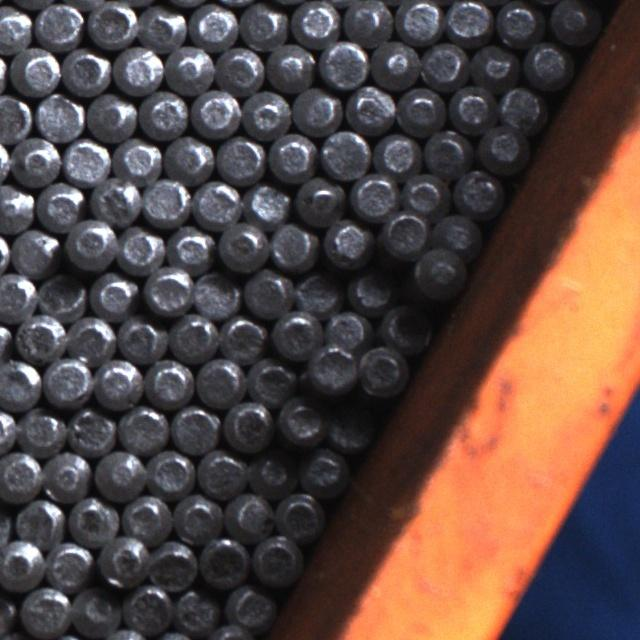tool: (95, 532, 149, 586), (410, 246, 466, 298), (62, 219, 116, 272), (377, 300, 432, 352), (66, 494, 120, 546), (89, 173, 141, 225), (294, 173, 346, 225), (197, 537, 249, 589), (10, 135, 61, 187), (69, 585, 120, 637), (222, 398, 272, 451), (94, 448, 145, 499), (355, 344, 406, 395), (242, 268, 294, 318), (217, 220, 269, 270), (123, 582, 173, 634), (250, 534, 300, 586), (18, 587, 69, 637), (15, 312, 66, 362), (9, 226, 59, 277), (41, 450, 91, 501), (172, 491, 222, 542), (275, 396, 325, 447), (66, 312, 116, 363), (35, 180, 85, 230), (60, 46, 110, 96), (136, 2, 186, 52), (236, 1, 286, 51), (319, 129, 369, 179), (318, 39, 368, 89), (196, 448, 246, 498), (66, 406, 116, 456), (118, 404, 168, 454), (306, 345, 356, 395), (85, 93, 136, 142), (14, 497, 65, 546), (43, 355, 92, 406), (267, 131, 316, 181), (163, 133, 213, 182), (269, 222, 319, 271), (192, 178, 241, 228), (143, 266, 192, 316), (116, 312, 166, 361), (44, 540, 93, 590), (396, 85, 445, 135), (93, 358, 142, 408), (169, 312, 219, 361), (271, 311, 321, 360), (370, 38, 419, 88), (16, 406, 66, 455), (116, 225, 166, 274), (191, 272, 241, 321), (39, 271, 89, 320), (452, 167, 502, 216), (274, 491, 323, 541), (148, 539, 196, 590), (34, 0, 83, 49), (192, 88, 241, 137), (165, 45, 214, 94), (114, 44, 163, 93), (351, 171, 400, 220), (146, 447, 195, 496), (10, 47, 59, 96), (219, 313, 268, 362), (123, 491, 172, 540), (225, 490, 274, 539), (225, 582, 274, 631), (522, 41, 571, 90), (299, 446, 348, 495), (291, 86, 341, 134), (216, 134, 266, 182), (189, 1, 237, 51), (141, 176, 189, 226), (345, 84, 395, 132), (86, 0, 136, 48), (325, 219, 373, 269), (246, 354, 294, 404), (476, 122, 524, 172), (35, 91, 83, 140), (242, 88, 291, 136), (266, 43, 315, 91), (139, 90, 188, 138), (216, 45, 264, 94), (420, 39, 469, 87), (170, 404, 218, 453), (145, 358, 193, 407), (379, 210, 428, 258), (196, 356, 243, 406), (547, 0, 598, 46), (114, 134, 162, 182), (62, 136, 110, 184), (346, 268, 394, 316), (422, 127, 470, 175), (171, 586, 219, 634), (247, 450, 295, 498), (89, 271, 138, 318), (244, 179, 292, 226), (295, 271, 343, 318), (167, 225, 215, 272), (497, 84, 545, 131), (450, 82, 496, 130), (324, 407, 372, 453), (0, 540, 44, 590), (373, 131, 420, 177), (472, 40, 519, 86), (401, 170, 447, 217), (342, 0, 392, 43), (0, 451, 41, 503), (290, 0, 338, 44), (494, 0, 540, 45), (395, 0, 442, 44), (432, 210, 480, 253), (444, 0, 491, 43), (0, 358, 40, 408), (325, 308, 370, 352), (0, 272, 35, 321), (0, 182, 33, 233), (0, 94, 33, 142), (0, 4, 32, 53)
